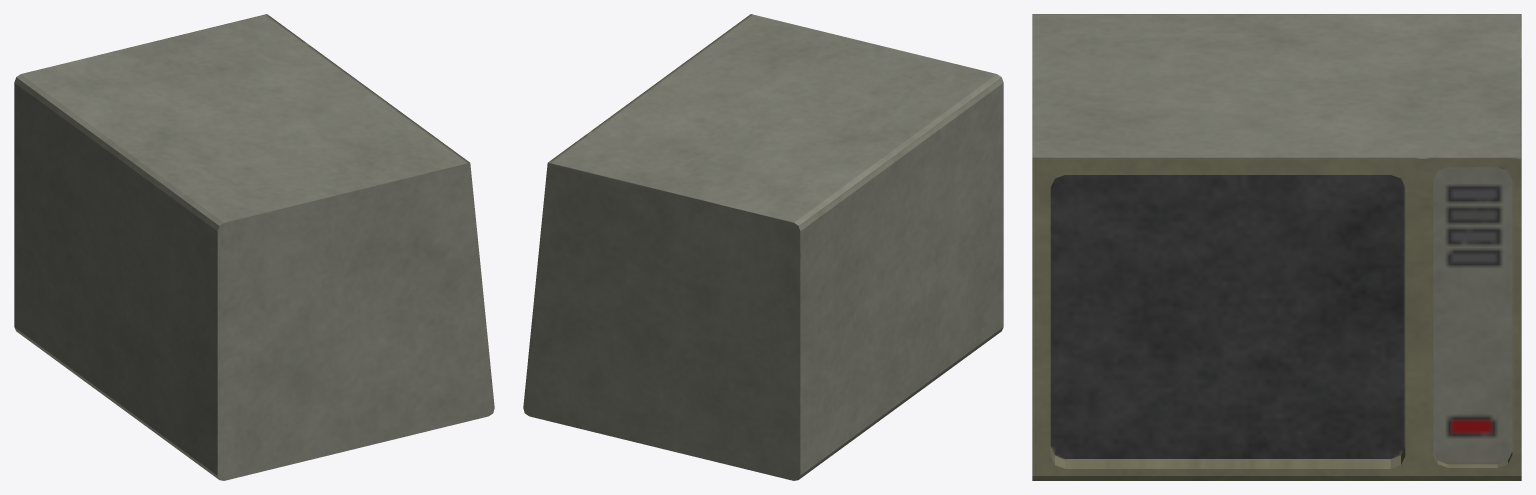
The model's file is updated_pc_monitor.fbx.
3 views of the same model, side by side, from view 1: azimuth 30°, elevation 25°; view 2: azimuth 150°, elevation 25°; view 3: azimuth 270°, elevation 25° (orthographic). The views are drawn at different scales.
Visible parts, largest first — view 1: monitor; view 2: monitor; view 3: monitor.
Part boxes in pixels (<box>): monitor: <box>14,14,494,480</box>; monitor: <box>523,14,1003,480</box>; monitor: <box>1032,14,1521,480</box>.
Bounding box in the file's own units: 131 × 117 × 167.
